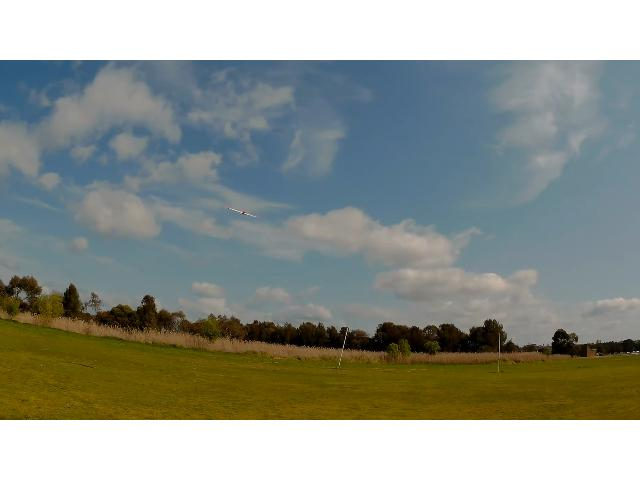Anti-Drone: (227, 206, 259, 220)
